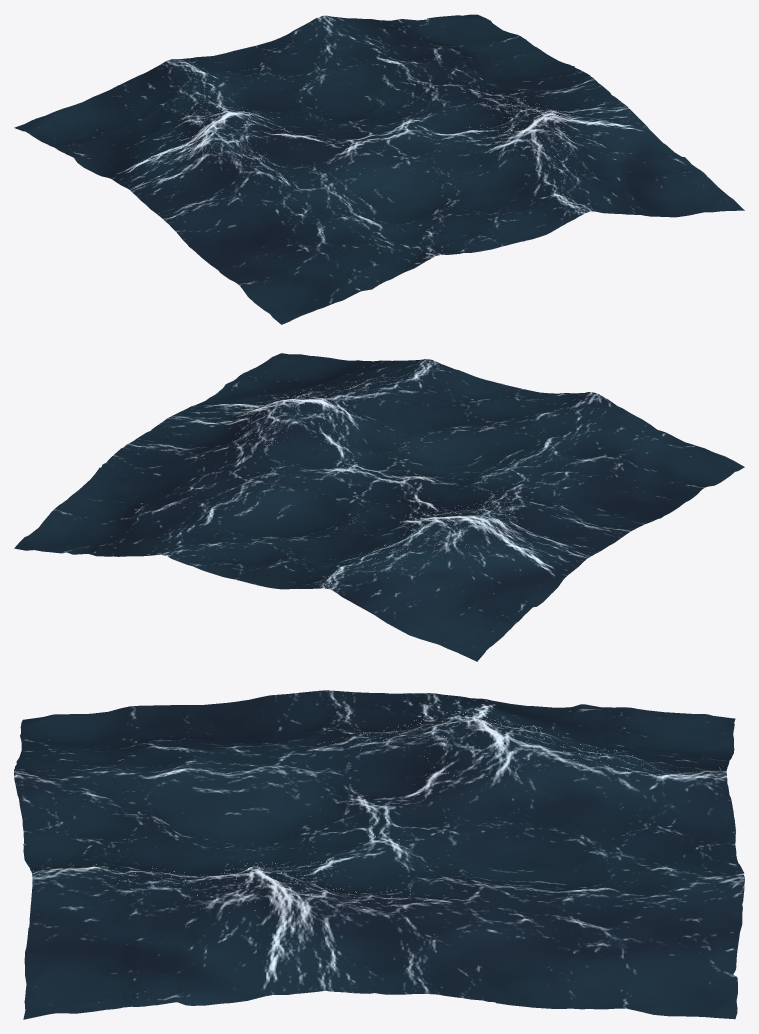
3 renders of one model, top to bottom at view 1: azimuth 30°, elevation 25°; view 2: azimuth 150°, elevation 25°; view 3: azimuth 270°, elevation 25°, orthographic. The views are drawn at different scales.
Visible parts, largest first — view 1: ocean_reduced; view 2: ocean_reduced; view 3: ocean_reduced.
Boxes of the visible parts, x1,y1,x2,y2 form: ocean_reduced: (14, 14, 744, 324); ocean_reduced: (14, 353, 744, 661); ocean_reduced: (14, 690, 744, 1019).
Bounding box in the file's own units: 50.89 × 5.62 × 51.28.
2 materials, 1 textured.
